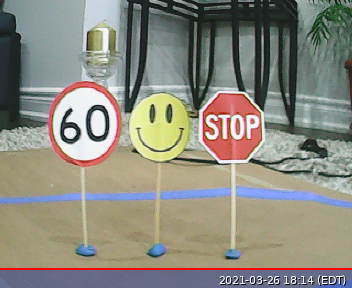Person: (129, 92, 189, 162)
Speed Limit 60: (46, 79, 123, 168)
Stop Sign: (198, 90, 265, 163)
